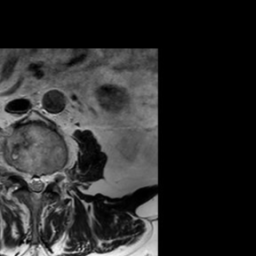CCS_stenosis: (33, 165, 40, 201)
LFS_normal: (47, 163, 56, 190)
LLS_normal: (40, 165, 47, 198)
RFS_stenosis: (16, 160, 25, 186)
RLS_normal: (25, 165, 33, 196)
